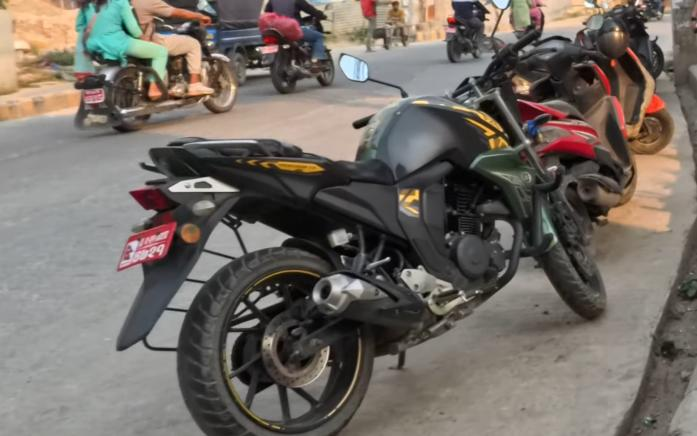bike: (104, 11, 613, 436)
